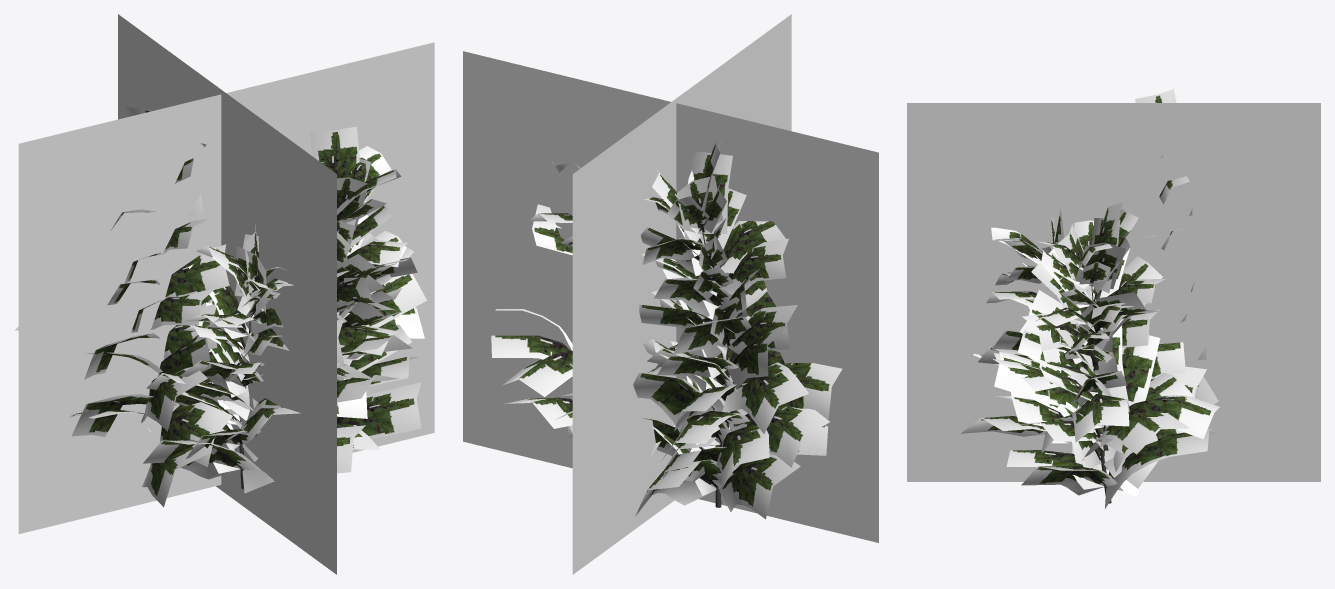
The model's file is Bushes07.fbx.
3 renders of one model, left to right at view 1: azimuth 30°, elevation 25°; view 2: azimuth 150°, elevation 25°; view 3: azimuth 270°, elevation 25°, orthographic. The views are drawn at different scales.
Visible parts, largest first — view 1: pPlane1, ForestBush07LOD0, pPlane2; view 2: pPlane1, ForestBush07LOD0, pPlane2; view 3: pPlane2, ForestBush07LOD0.
Boxes of the visible parts, <box> form: pPlane1: <box>18,42,434,533</box>; ForestBush07LOD0: <box>15,107,426,507</box>; pPlane2: <box>118,14,336,574</box>; pPlane1: <box>463,51,878,542</box>; ForestBush07LOD0: <box>491,137,842,519</box>; pPlane2: <box>572,14,791,574</box>; pPlane2: <box>907,103,1320,481</box>; ForestBush07LOD0: <box>961,89,1219,508</box>.
Size of what is drawn, in the model's own units: 598 by 550 by 545.
